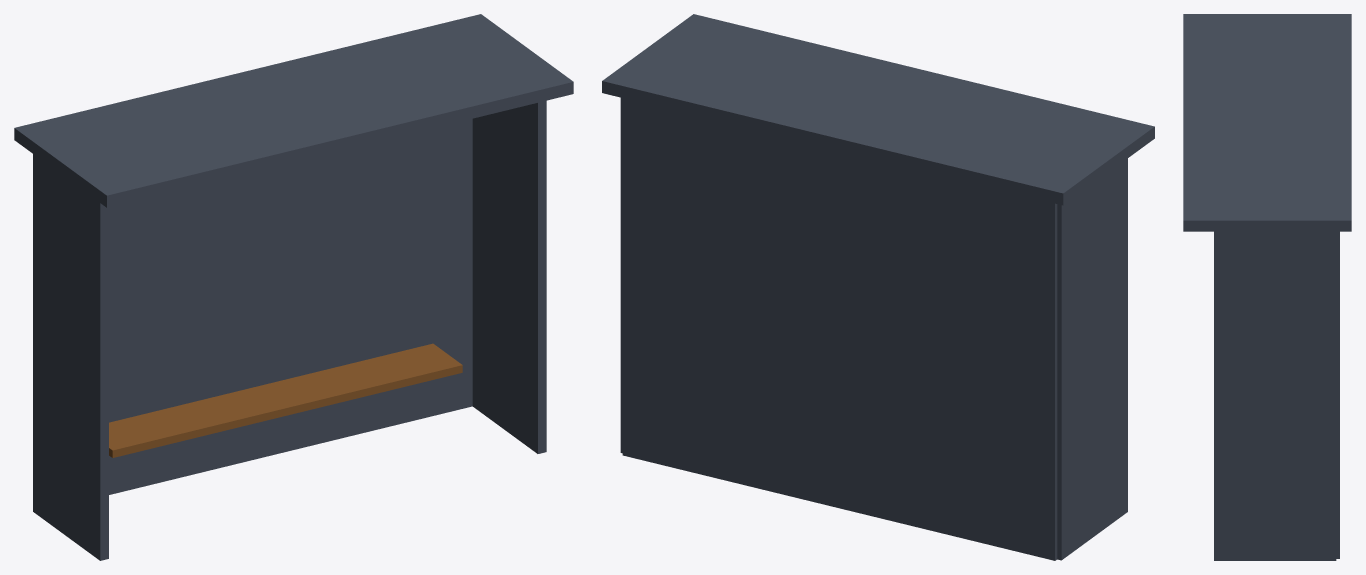
File: bus_shelter.glb
3 views of the same model, side by side, from view 1: azimuth 30°, elevation 25°; view 2: azimuth 150°, elevation 25°; view 3: azimuth 270°, elevation 25° (orthographic). The views are drawn at different scales.
Parts seen in each view (by area): view 1: bus_shelter; view 2: bus_shelter; view 3: bus_shelter.
Part boxes in pixels (x1=…): bus_shelter: x1=14, y1=14, x2=573, y2=560; bus_shelter: x1=602, y1=14, x2=1154, y2=560; bus_shelter: x1=1183, y1=14, x2=1351, y2=560.
Size of the model in its own units: 3.2 by 2.49 by 1.1.
